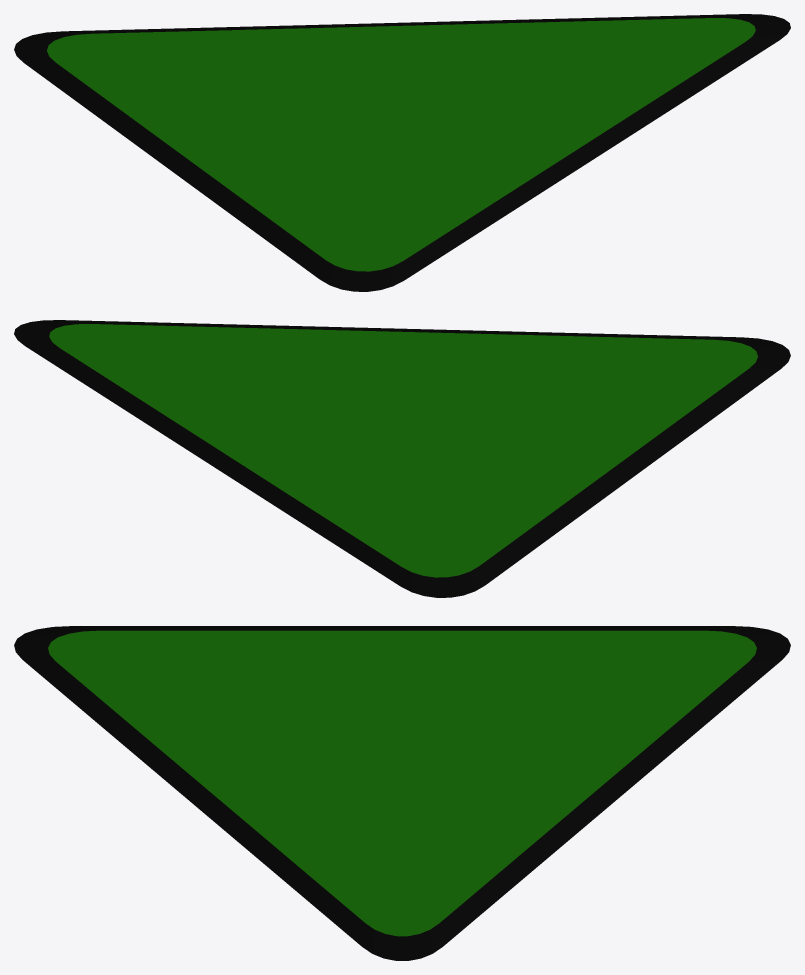
The model's file is play.fbx.
3 views of the same model, one above another, from view 1: azimuth 30°, elevation 25°; view 2: azimuth 150°, elevation 25°; view 3: azimuth 270°, elevation 25° (orthographic). The views are drawn at different scales.
Parts seen in each view (by area): view 1: Plane; view 2: Plane; view 3: Plane.
Boxes of the visible parts, x1,y1,x2,y2 form: Plane: (14,14,790,291); Plane: (14,320,790,597); Plane: (14,626,790,960).
Size of the model in its own units: 189 by 1.52 by 185.
